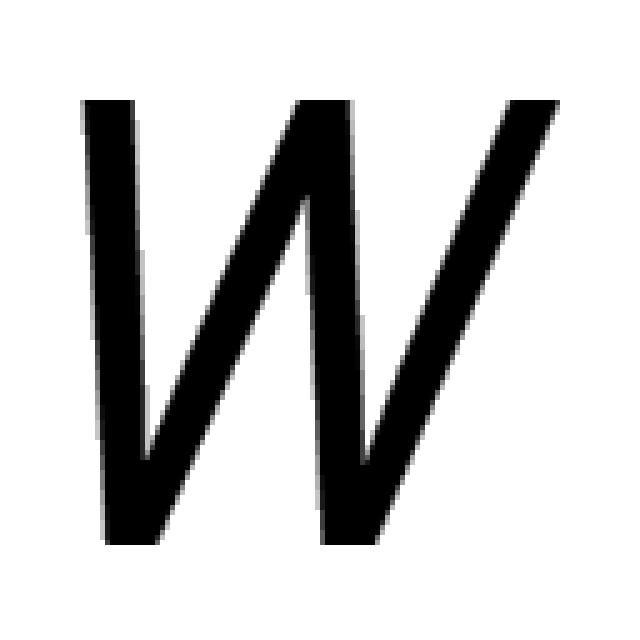W: (65, 80, 565, 550)
